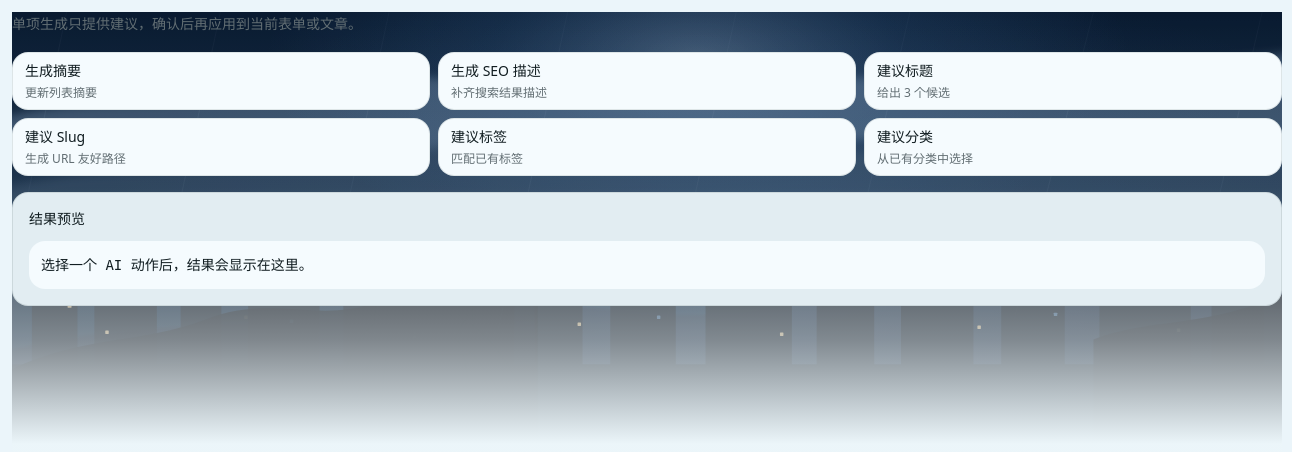
Test case: PostAiWorkspace › does not apply draft tag suggestions without existing tag ids
Click the button "建议标签 匹配已有标签" at x=479, y=136, box [438,118,856,176]
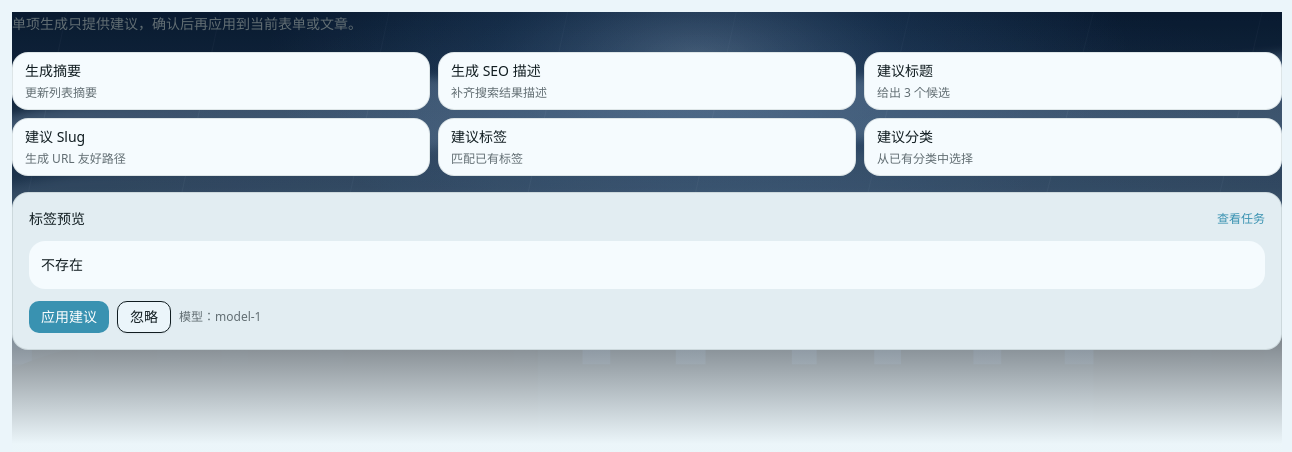
Expected: the text "不存在" is shown, [29,241,1265,289]
Click the button "应用建议" at x=69, y=317, box [29,301,109,333]
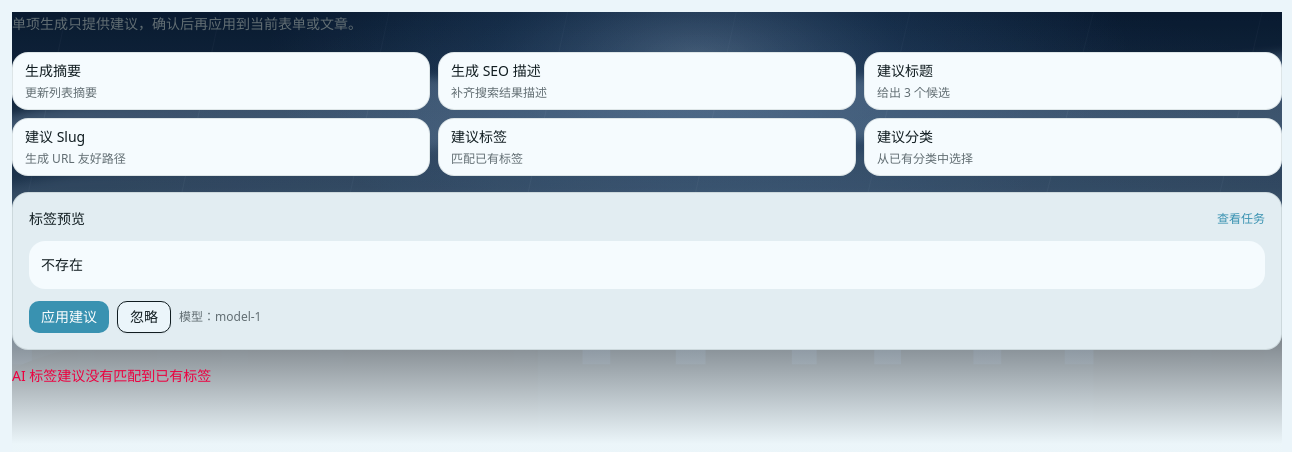
Expected: the text "AI 标签建议没有匹配到已有标签" is shown, [12,366,211,385]
